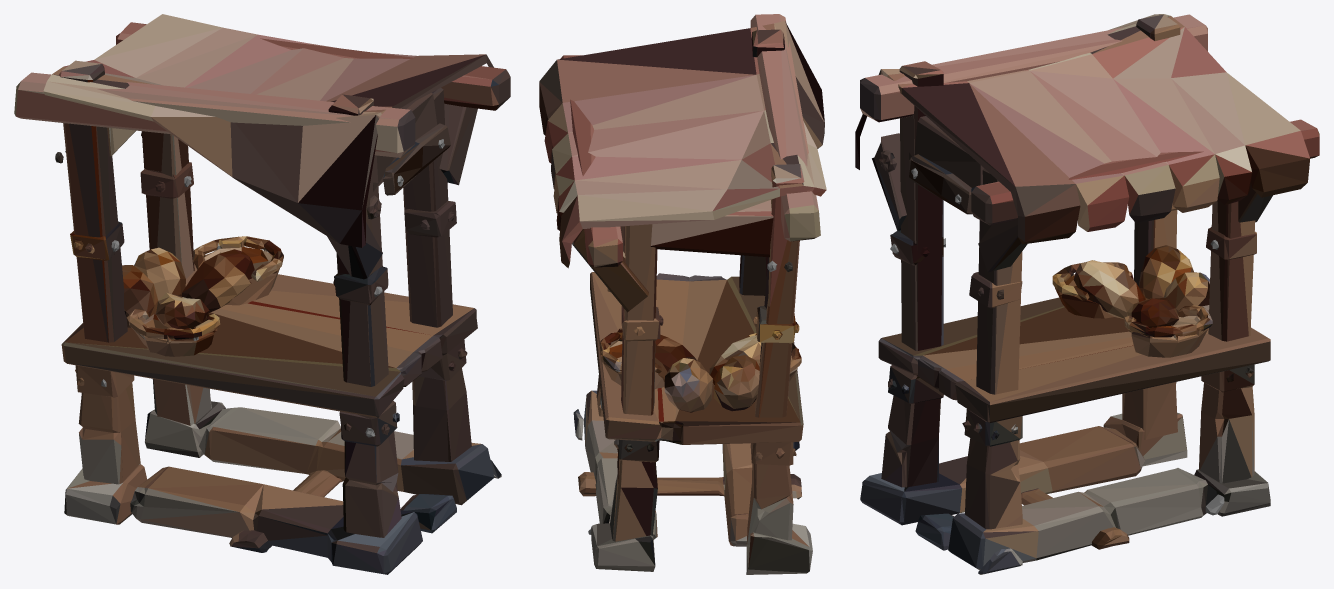
Rendered from Market_Stall.glb.
3 renders of one model, left to right at view 1: azimuth 30°, elevation 25°; view 2: azimuth 150°, elevation 25°; view 3: azimuth 270°, elevation 25°, orthographic. The views are drawn at different scales.
Parts seen in each view (by area): view 1: world; view 2: world; view 3: world.
Boxes of the visible parts, left/top/right/bottom form: world: left=14, top=14, right=510, bottom=574; world: left=539, top=14, right=826, bottom=574; world: left=855, top=14, right=1319, bottom=574.
Size of the model in its own units: 0.3672 by 0.4121 by 0.3906.
